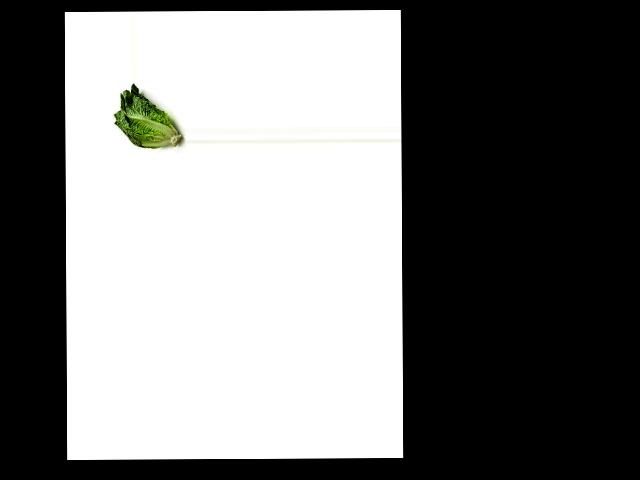lettuce: (111, 84, 179, 150)
